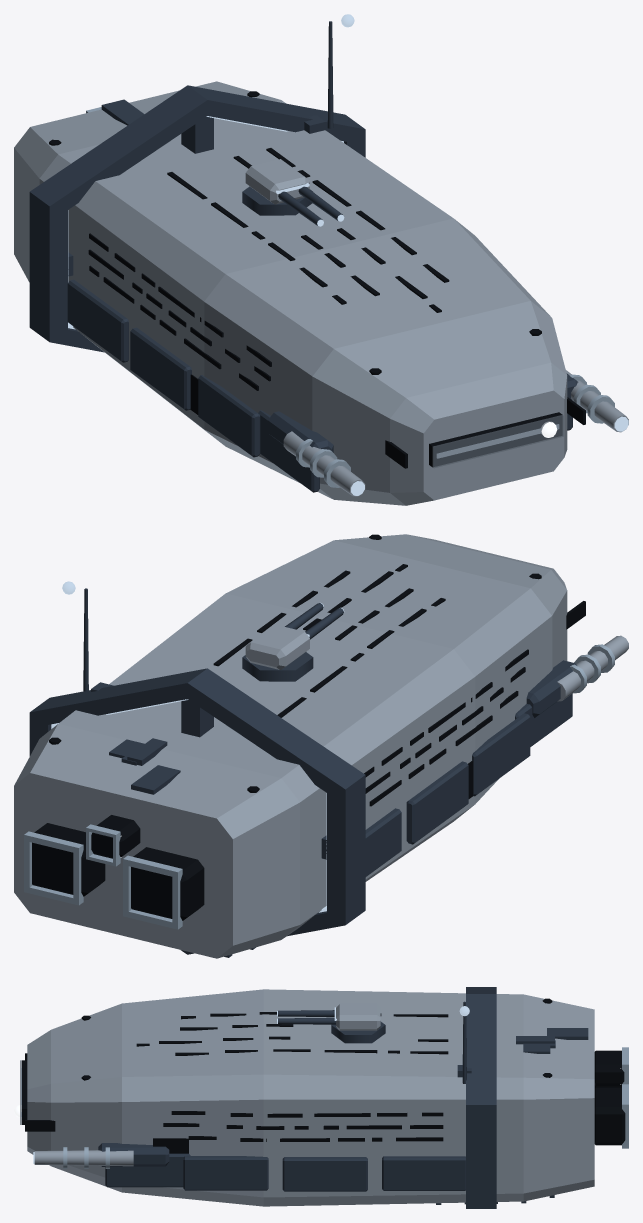
Rendered from paragraf-wykonawcy-hawk-9-lod0.glb.
3 views of the same model, one above another, from view 1: azimuth 30°, elevation 25°; view 2: azimuth 150°, elevation 25°; view 3: azimuth 270°, elevation 25° (orthographic). The views are drawn at different scales.
Bounding box in the file's own units: 9.56 × 9.35 × 21.05.
